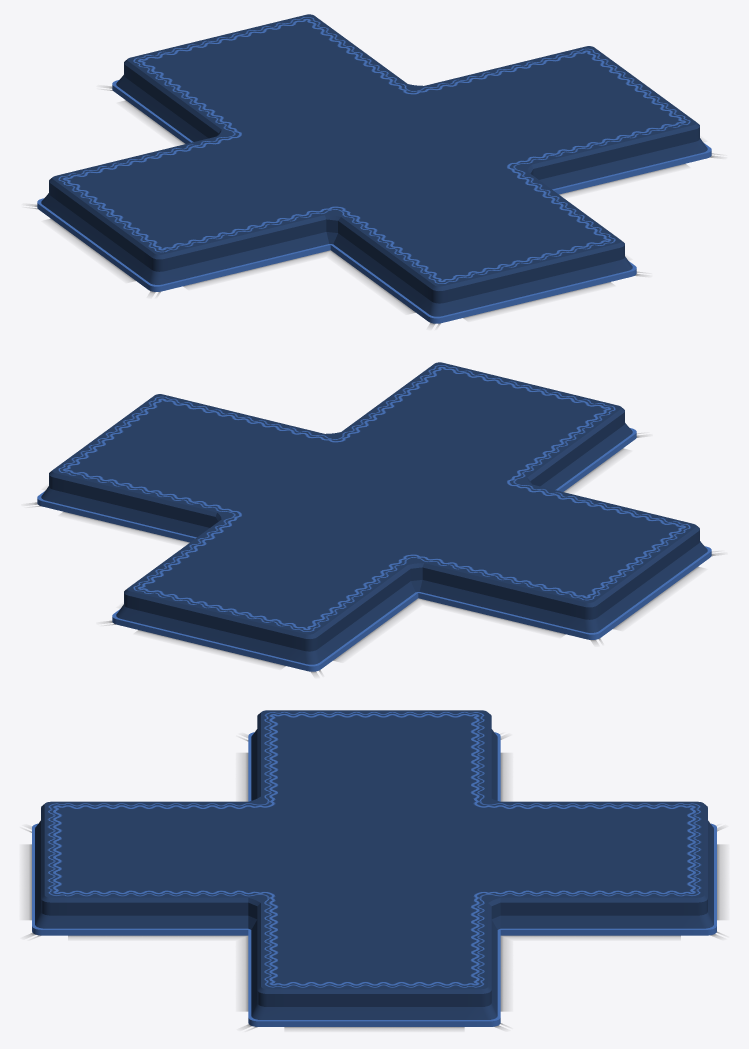
The model's file is island_plus.glb.
3 renders of one model, top to bottom at view 1: azimuth 30°, elevation 25°; view 2: azimuth 150°, elevation 25°; view 3: azimuth 270°, elevation 25°, orthographic. The views are drawn at different scales.
Visible parts, largest first — view 1: slice_bot.001; view 2: slice_bot.001; view 3: slice_bot.001.
Part boxes in pixels (box(x1,y1,x2,y2)): slice_bot.001: box(30, 14, 717, 326); slice_bot.001: box(30, 362, 718, 674); slice_bot.001: box(26, 710, 722, 1028).
Bounding box in the file's own units: 40 × 2 × 40.
5 materials, 5 textured.
